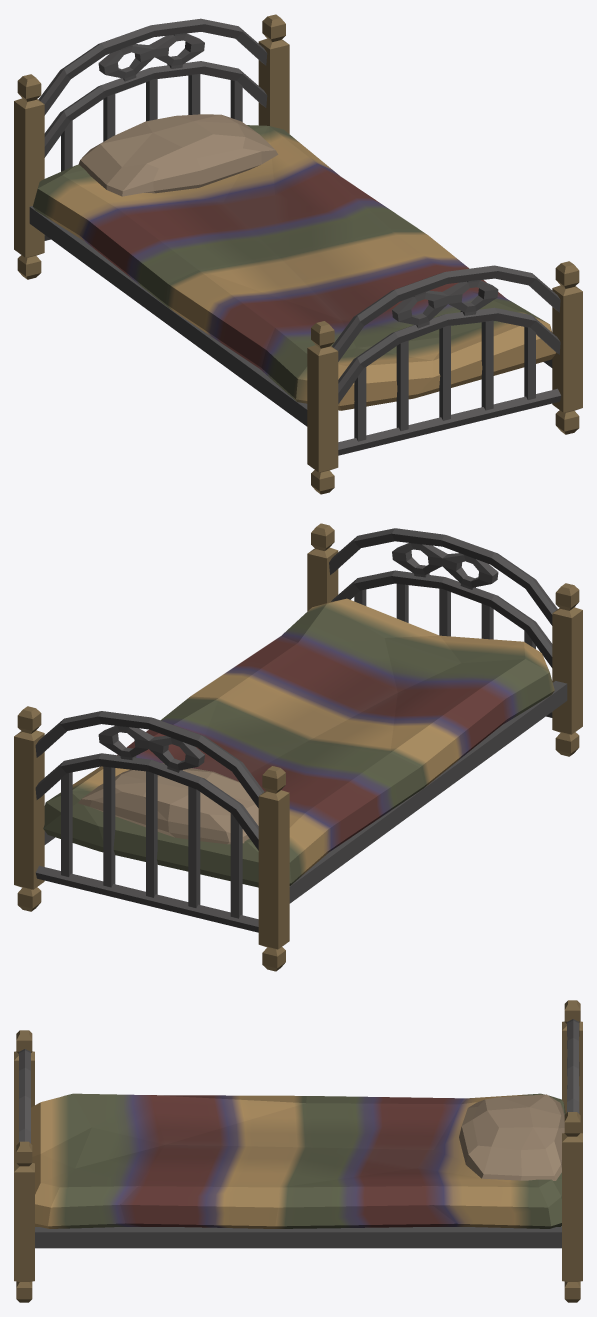
File: SM_Prop_Bed_Small_02.fbx
3 views of the same model, one above another, from view 1: azimuth 30°, elevation 25°; view 2: azimuth 150°, elevation 25°; view 3: azimuth 270°, elevation 25° (orthographic). The views are drawn at different scales.
Parts seen in each view (by area): view 1: SM_Prop_Bed_Small_02; view 2: SM_Prop_Bed_Small_02; view 3: SM_Prop_Bed_Small_02.
Part boxes in pixels (x1=…): SM_Prop_Bed_Small_02: x1=14, y1=14, x2=582, y2=494; SM_Prop_Bed_Small_02: x1=14, y1=523, x2=582, y2=971; SM_Prop_Bed_Small_02: x1=14, y1=1000, x2=582, y2=1302.
Size of the model in its own units: 121 by 97.09 by 242.
